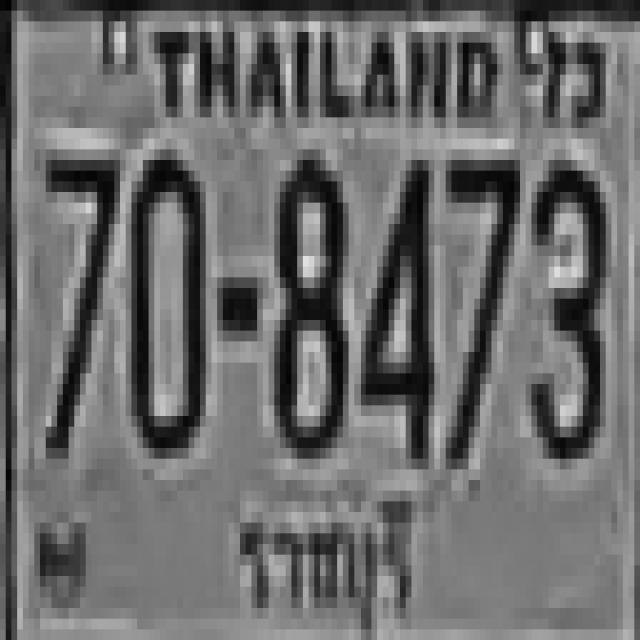0: (126, 144, 200, 443)
3: (526, 155, 600, 453)
4: (354, 149, 429, 459)
7: (443, 149, 517, 459), (43, 144, 117, 453)
8: (268, 149, 343, 448)
Ratchaburi: (233, 485, 419, 638)
